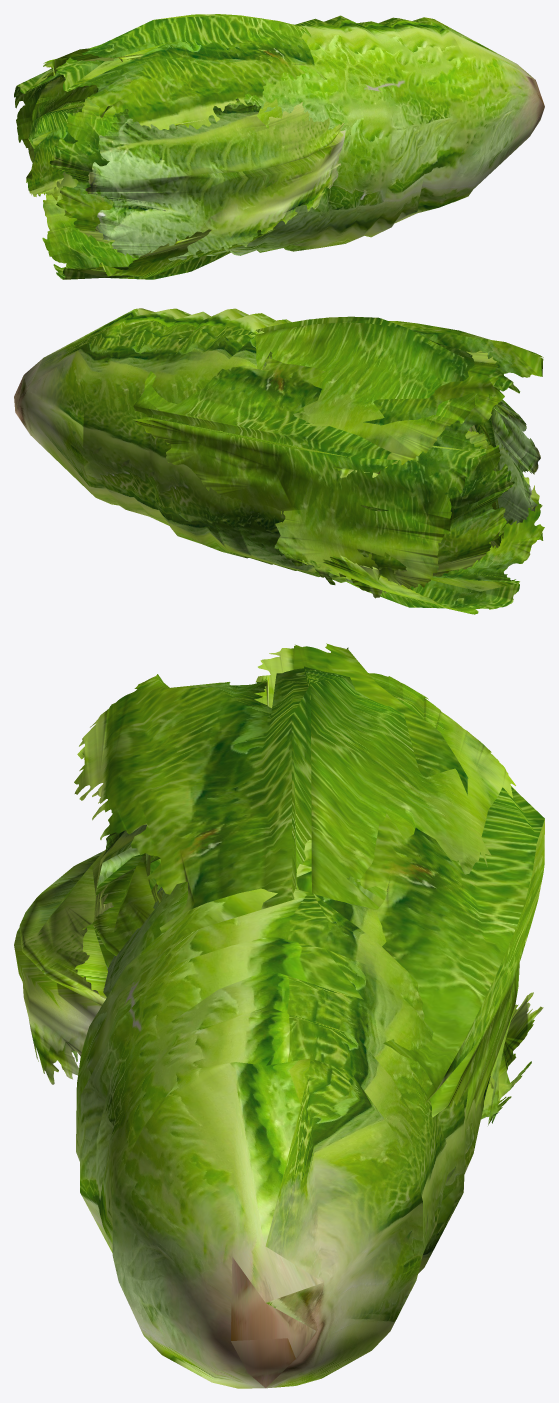
File: Lettuce.fbx
The picture shows the model from 3 angles, top to bottom: view 1: azimuth 30°, elevation 25°; view 2: azimuth 150°, elevation 25°; view 3: azimuth 270°, elevation 25°; orthographic projection. The views are drawn at different scales.
Parts seen in each view (by area): view 1: LettuceMainPart; view 2: LettuceMainPart; view 3: LettuceMainPart.
Boxes of the visible parts, <box> form: LettuceMainPart: <box>14,14,544,279</box>; LettuceMainPart: <box>14,308,544,614</box>; LettuceMainPart: <box>14,643,544,1388</box>.
Size of the model in its own units: 10.21 by 5.06 by 5.24.
